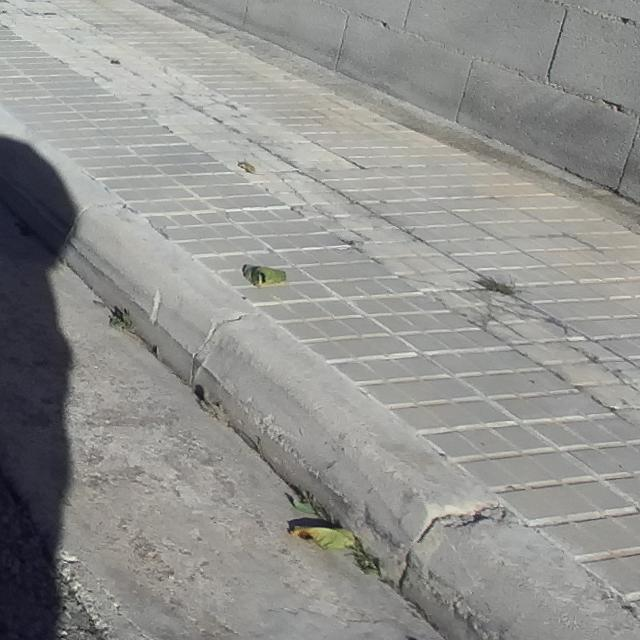calcada_quebrada: (465, 288, 571, 338), (570, 345, 639, 394), (276, 171, 335, 221), (167, 75, 225, 110)
